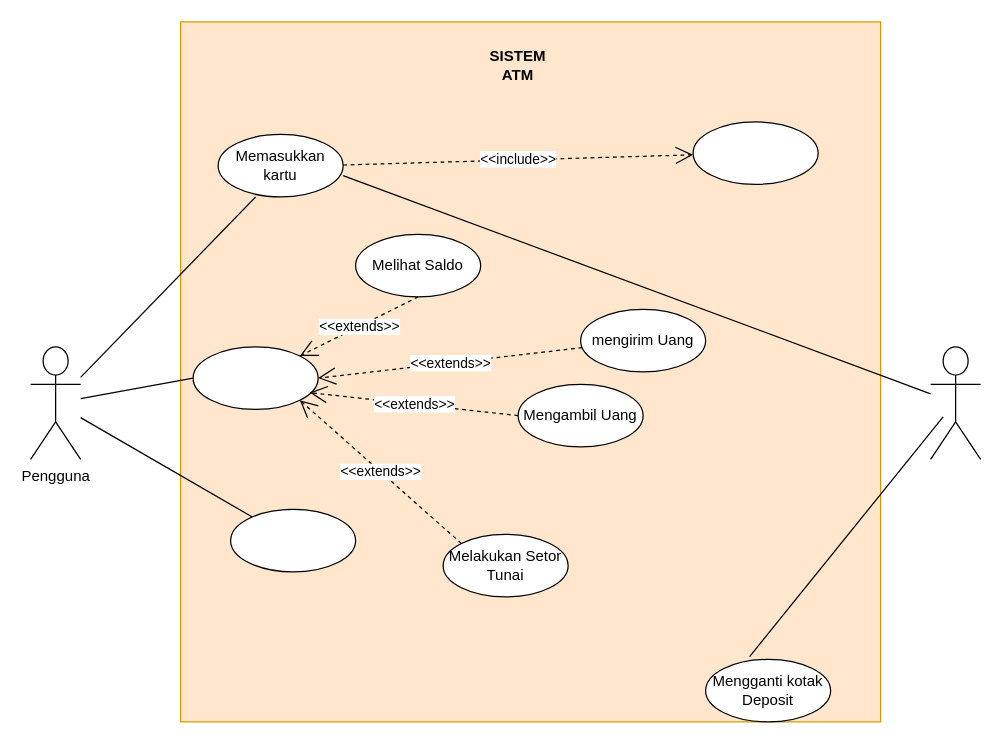
Some shapes in this 1003 by 744 pixel diagram are drawn without their labels. Here are the shapes that lost their labels. From the top down, the centre of each, then its label:
At point 755,152: "Memasukkan Pin".
At point 255,377: "Memilih Transaksi".
At point 955,402: "Admin".
At point 292,540: "Melakukan Logout".
